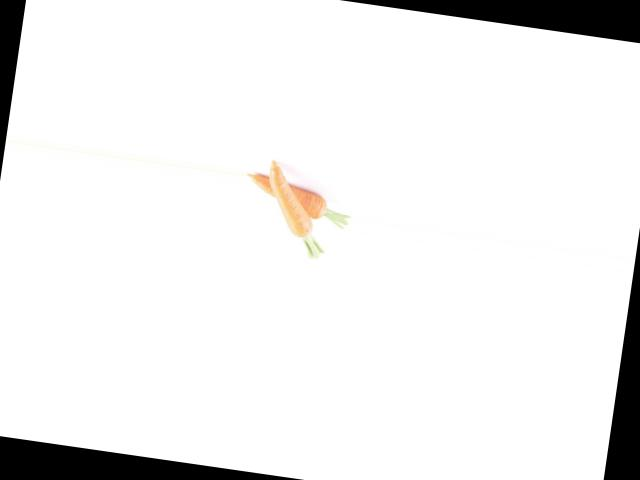carrot: (244, 176, 342, 218)
